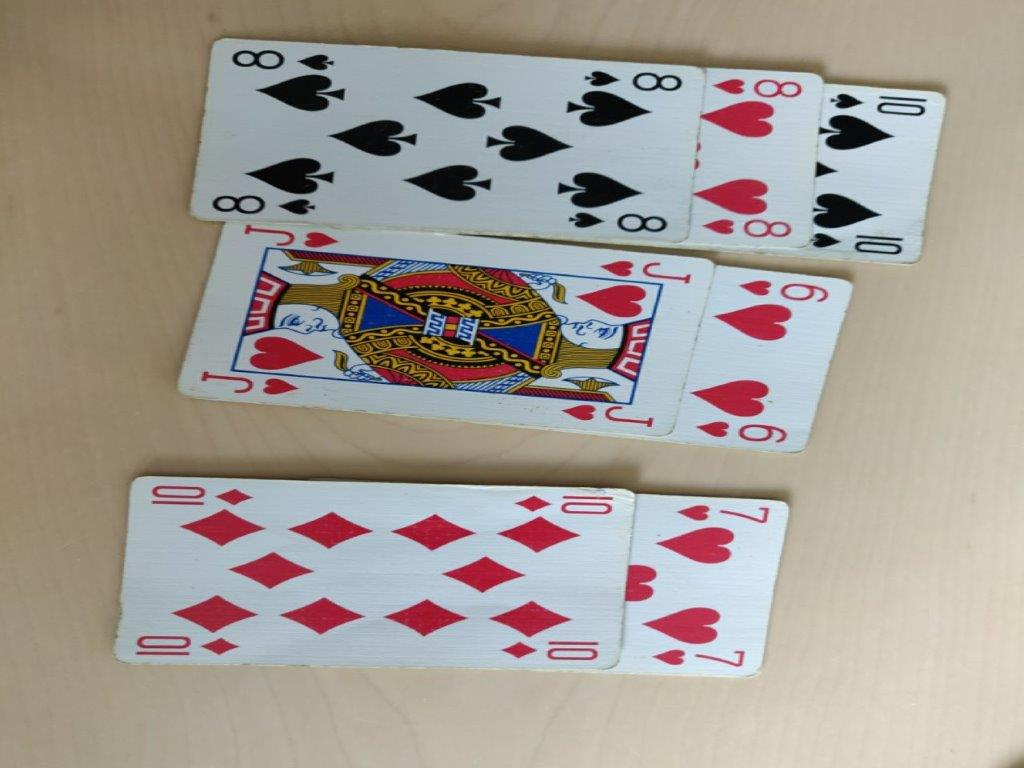10D: (135, 475, 614, 675)
10S: (819, 79, 939, 281)
6H: (693, 264, 879, 476)
7H: (621, 487, 816, 687)
8H: (687, 53, 808, 257)
8S: (209, 45, 686, 227)
JH: (203, 241, 690, 445)
